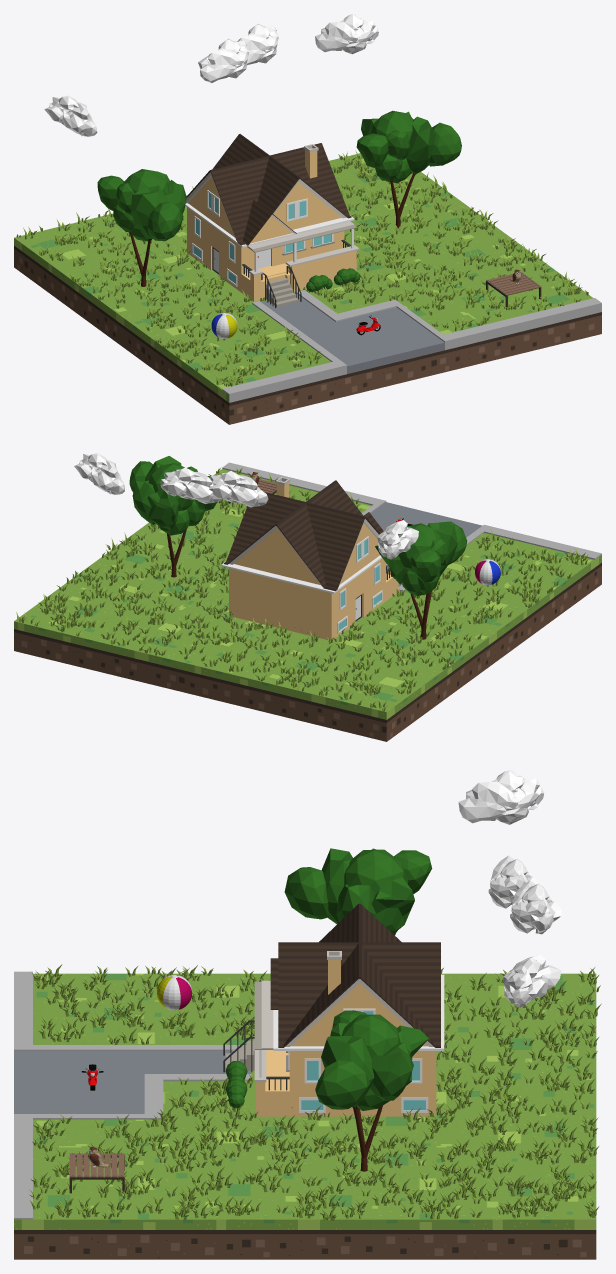
The picture shows the model from 3 angles, top to bottom: view 1: azimuth 30°, elevation 25°; view 2: azimuth 150°, elevation 25°; view 3: azimuth 270°, elevation 25°; orthographic projection. The views are drawn at different scales.
Visible parts, largest first — view 1: Cube.006, Cube.235, Circle.012_Grass_0.192, Cube.007, tree, tree.001, Cube.009, OBJRANDOM_BEACHBALL; view 2: Cube.006, Cube.235, Circle.012_Grass_0.192, Cube.007, tree.001, tree, OBJRANDOM_BEACHBALL; view 3: Cube.006, Circle.012_Grass_0.192, Cube.235, tree, Cube.007, tree.001, Cube.009, OBJRANDOM_BEACHBALL.
Part boxes in pixels (<box>): Cube.006: <box>14,153,601,424</box>; Cube.235: <box>185,134,359,308</box>; Circle.012_Grass_0.192: <box>16,150,588,386</box>; Cube.007: <box>44,14,378,136</box>; tree: <box>356,110,461,228</box>; tree.001: <box>97,169,186,286</box>; Cube.009: <box>486,272,541,306</box>; OBJRANDOM_BEACHBALL: <box>211,312,237,338</box>; Cube.006: <box>14,462,601,741</box>; Cube.235: <box>221,477,398,640</box>; Circle.012_Grass_0.192: <box>16,468,588,711</box>; Cube.007: <box>74,453,418,559</box>; tree.001: <box>375,521,467,639</box>; tree: <box>129,456,216,577</box>; OBJRANDOM_BEACHBALL: <box>475,559,500,585</box>; Cube.006: <box>14,971,596,1259</box>; Circle.012_Grass_0.192: <box>29,964,601,1220</box>; Cube.235: <box>223,903,444,1116</box>; tree: <box>315,1010,428,1171</box>; Cube.007: <box>458,770,561,1007</box>; tree.001: <box>284,848,432,935</box>; Cube.009: <box>69,1153,124,1193</box>; OBJRANDOM_BEACHBALL: <box>157,975,191,1010</box>.
Bounding box in the file's own units: 4071 × 2328 × 4040.
Materials: 37 (3 with a texture image).
